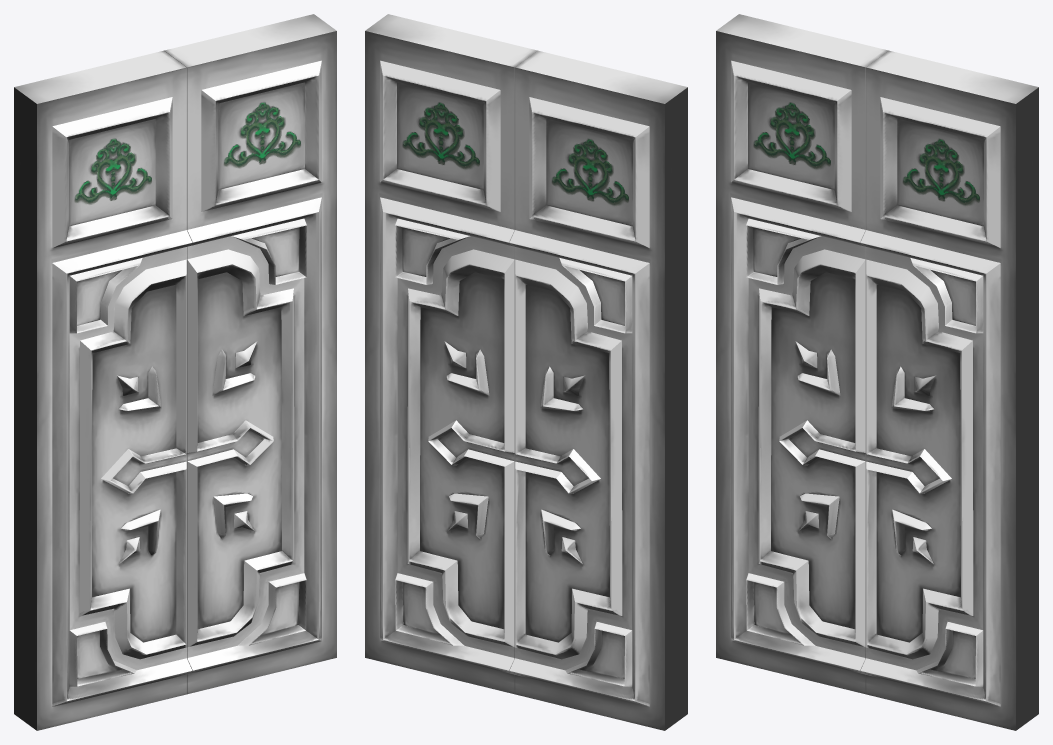
The model's file is joydoor.fbx.
The picture shows the model from 3 angles, left to right: view 1: azimuth 30°, elevation 25°; view 2: azimuth 150°, elevation 25°; view 3: azimuth 330°, elevation 25°; orthographic projection.
Visible parts, largest first — view 1: door1, door2; view 2: door1, door2; view 3: door2, door1.
Part boxes in pixels (bbox=[...]): door1: bbox=[14, 50, 192, 730]; door2: bbox=[164, 14, 336, 694]; door1: bbox=[509, 50, 687, 730]; door2: bbox=[365, 14, 537, 694]; door2: bbox=[860, 50, 1038, 730]; door1: bbox=[716, 14, 888, 694].
Size of the model in its own units: 150 by 300 by 29.99.
